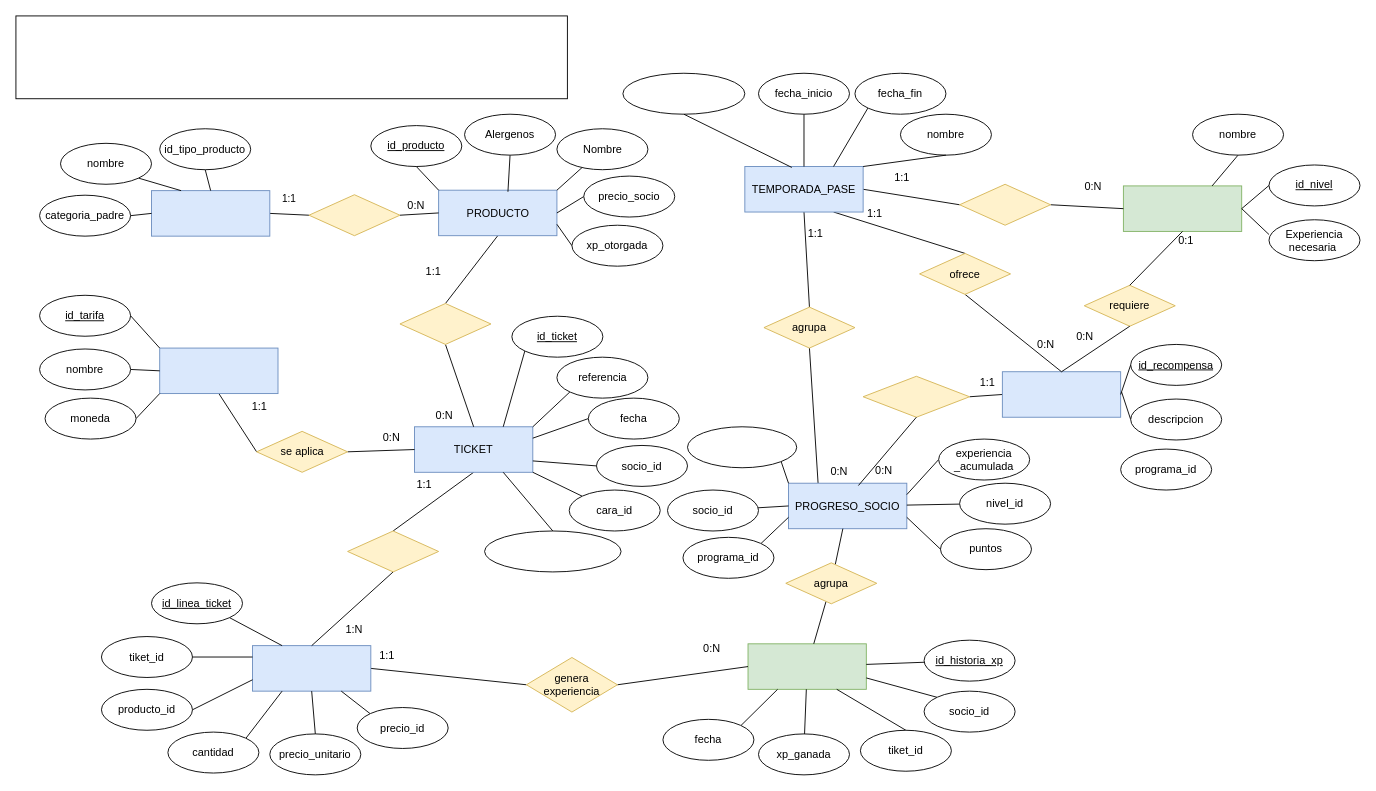
Some shapes in this 1376 by 791 pixel diagram are drawn without their labels. Here are the shapes that lost their labels. From the top down, the centre of each, then its label:
At point 291,57: "MODELO ENTIDAD/RELACION- GRUPO 4: INVENTARIO Y PASE DE FERIA".
At point 683,93: "id_temporada_pase".
At point 210,213: "TIPO_PRODUCTO".
At point 354,215: "Clasifica".
At point 1005,204: "define".
At point 1182,208: "NIVEL".
At point 445,323: "aparece en".
At point 218,370: "TARIFA".
At point 916,396: "tiene nivel act".
At point 1061,394: "RECOMPENSA".
At point 742,447: "id_progresol_socio".
At point 393,551: "Contiene".
At point 552,551: "cargo_facial_acumulada".
At point 311,668: "LINEA_TICKET".
At point 806,666: "HISTORIAL_XP".
